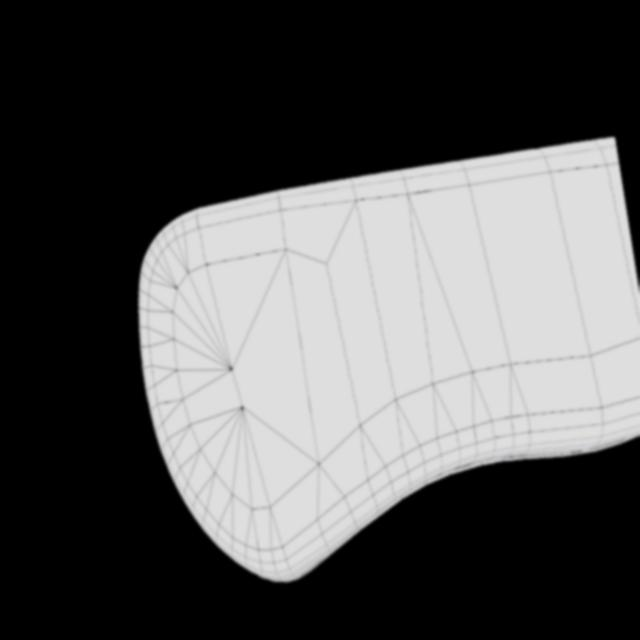cleaver: (116, 130, 640, 597)
